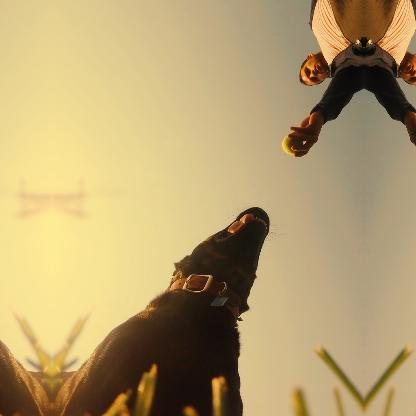Dog: (52, 203, 282, 415), (0, 203, 53, 416)
